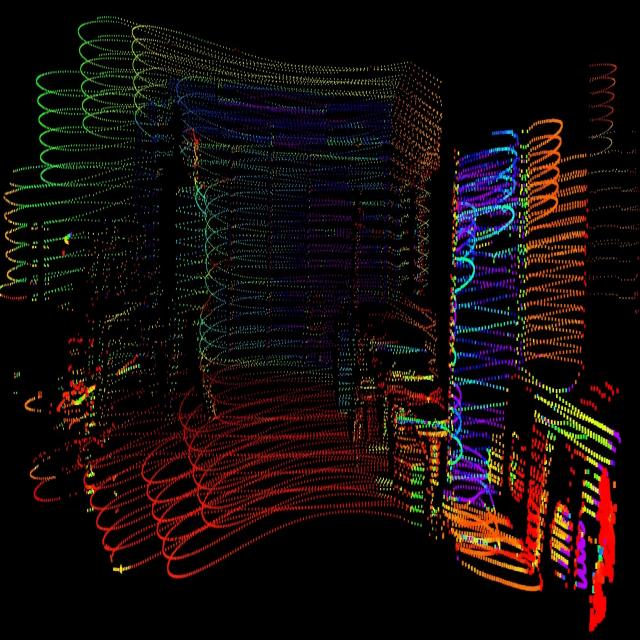human: (153, 115, 233, 438)
